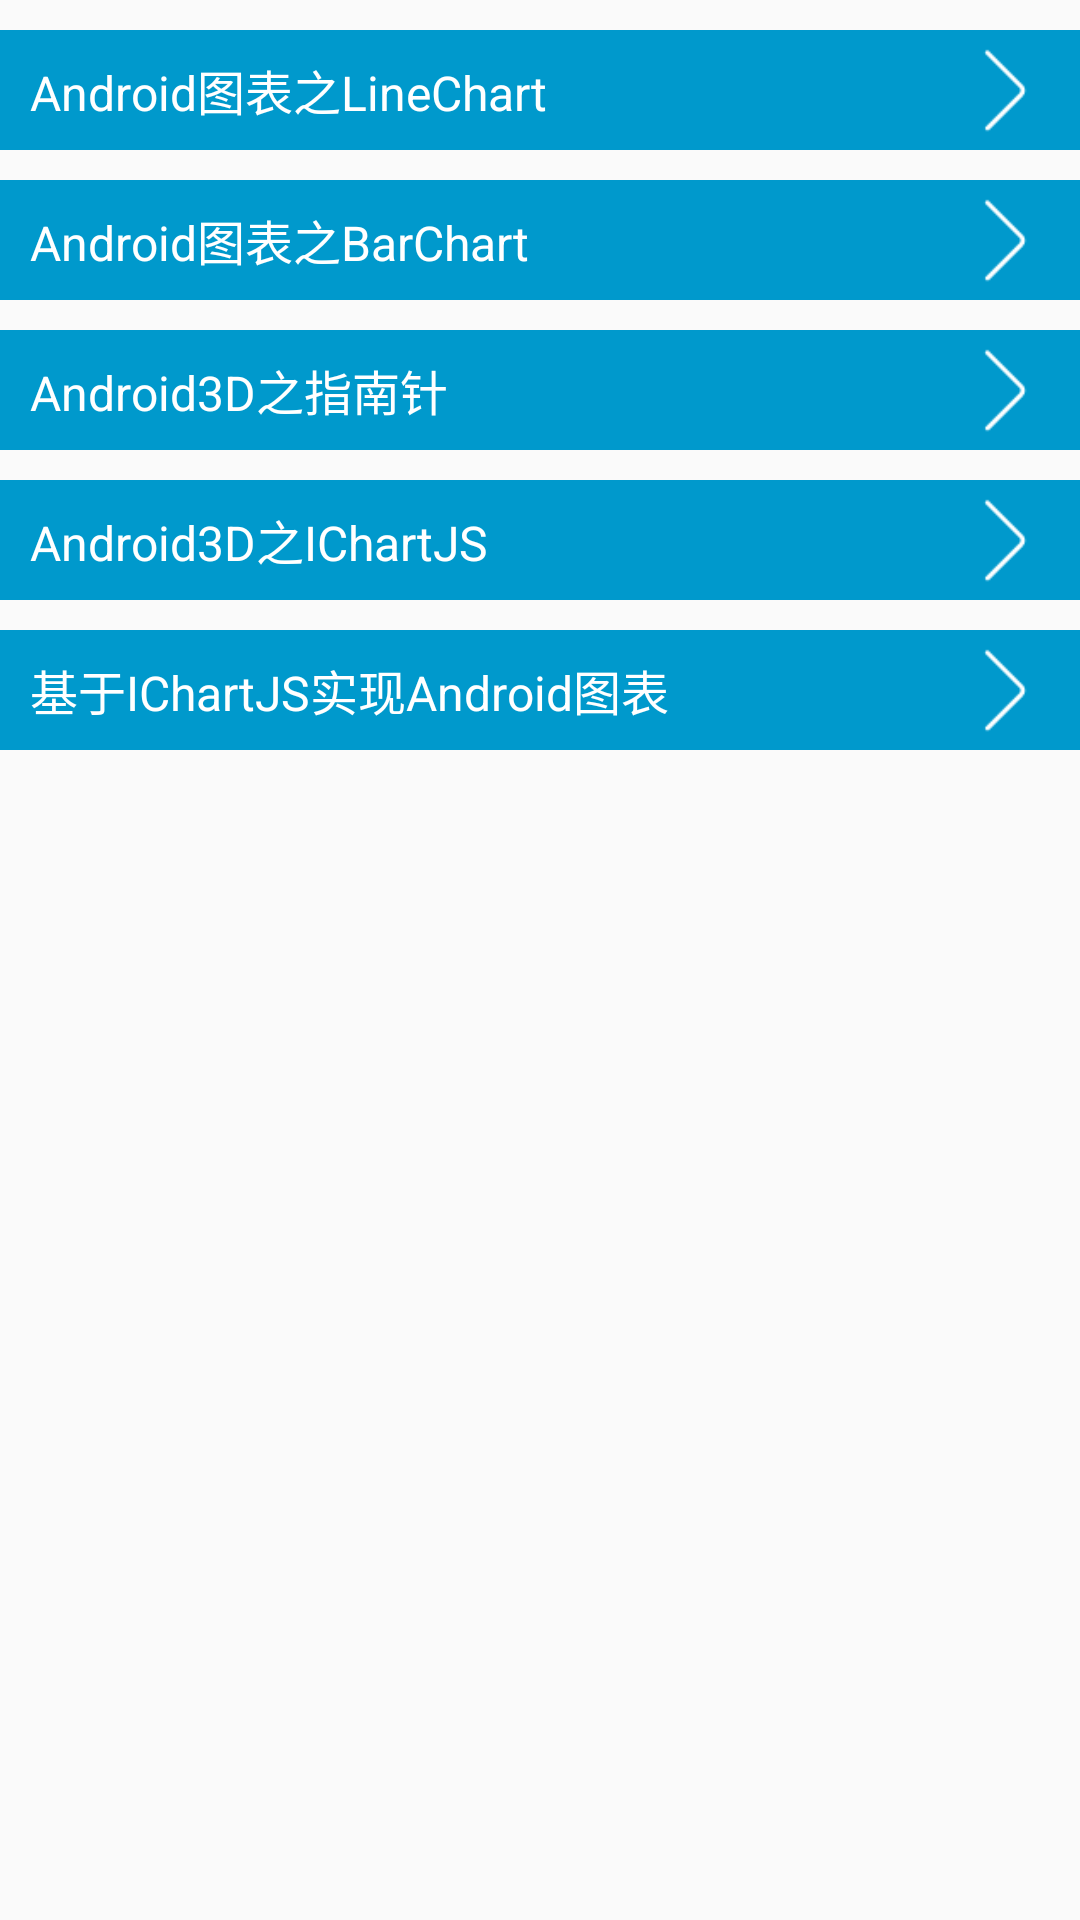

Screen size 1080*1920. Icon name, then its center in pixels as [x,y]:
next: [1005,90], [1005,240], [1005,390], [1005,540], [1005,690]
